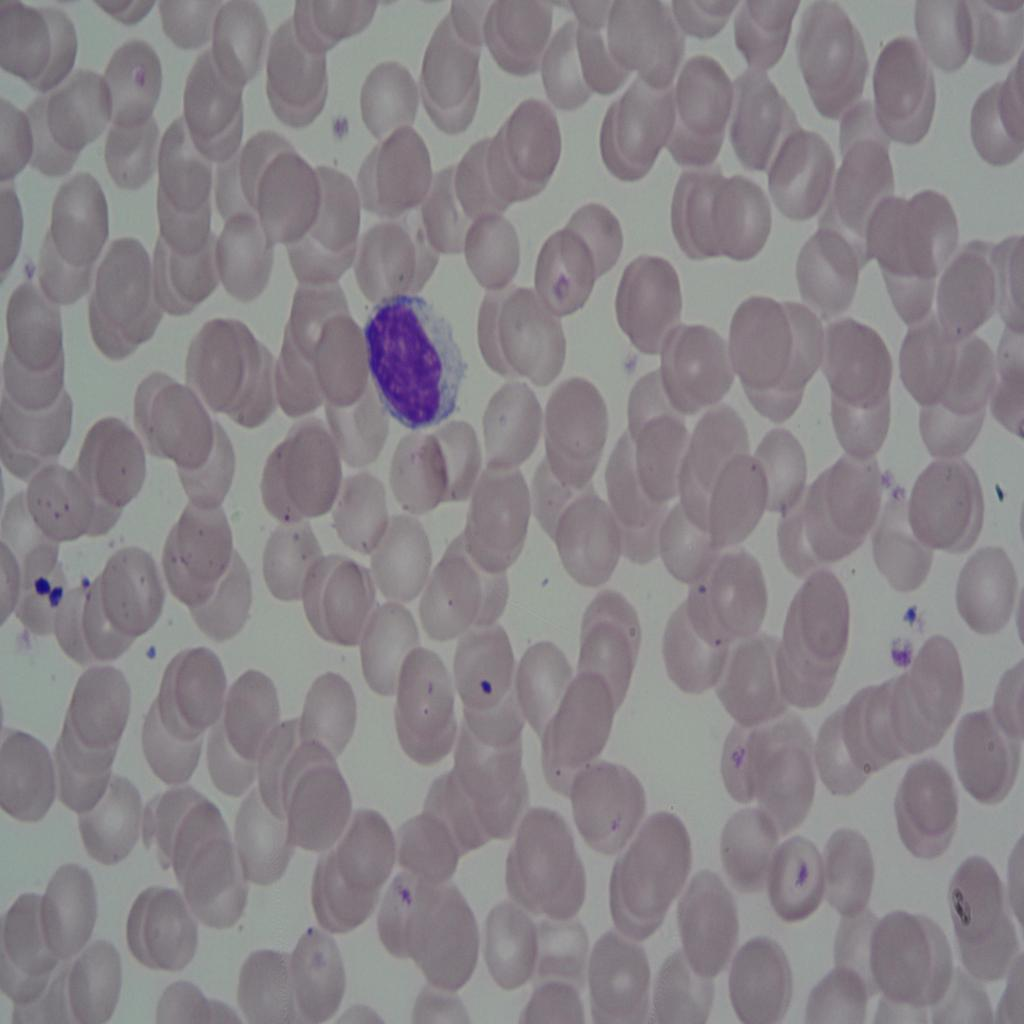Myeoblast: (358, 287, 467, 425)
Platelet: (462, 655, 498, 698), (898, 592, 928, 643), (549, 259, 578, 308), (891, 626, 916, 678), (145, 628, 170, 676), (329, 107, 361, 137), (49, 581, 72, 619), (31, 576, 49, 597)
